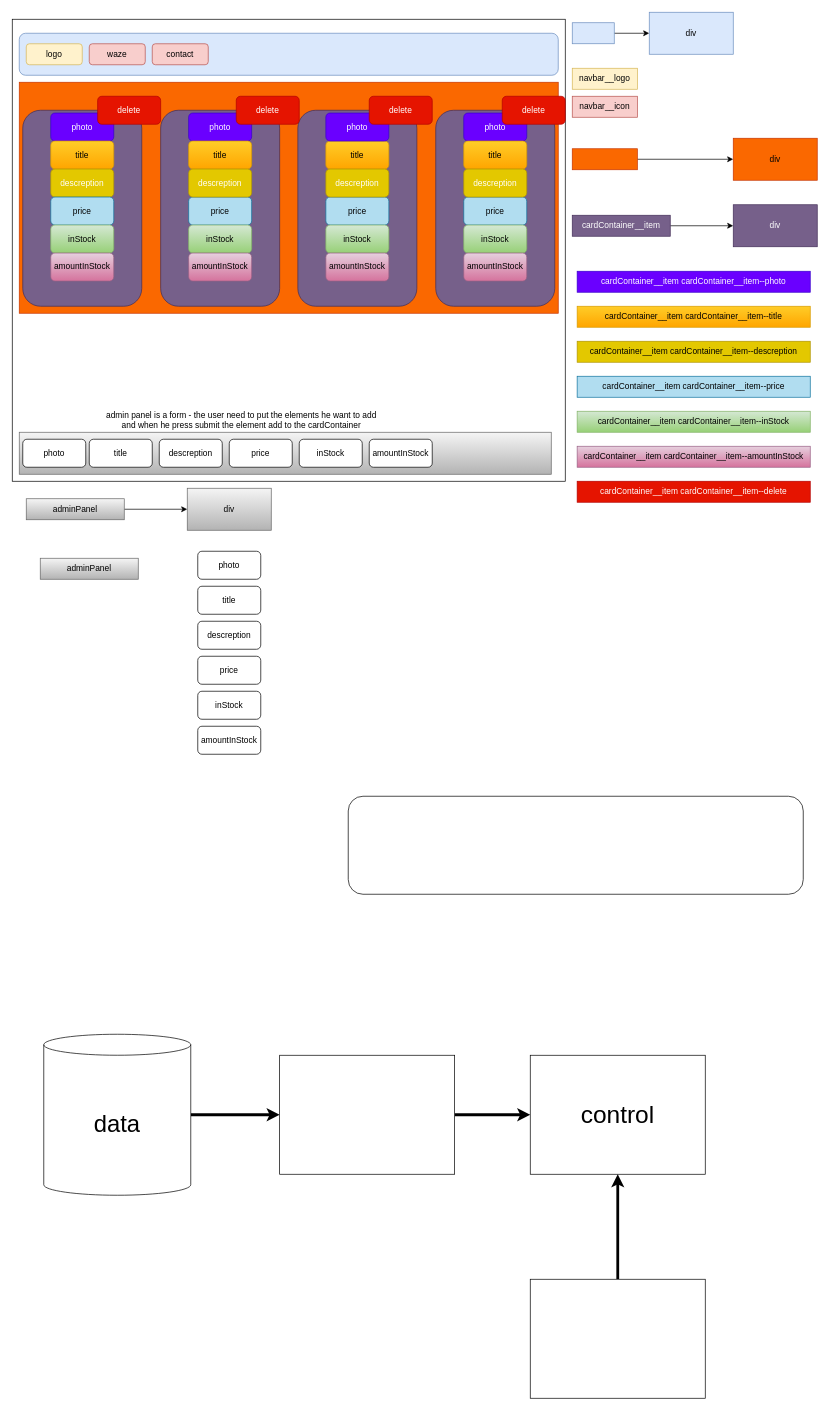
The diagram is 830 pixels wide and 1411 high, and some of its shapes have lost their labels. Each missing label, with the centre of its shape:
cardContainer: point 604,159
event: point 617,1338
mvc: point 575,845
navbar: point 593,33
view: point 367,1114
